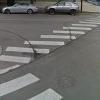Crosswalk: (5, 20, 97, 56)
